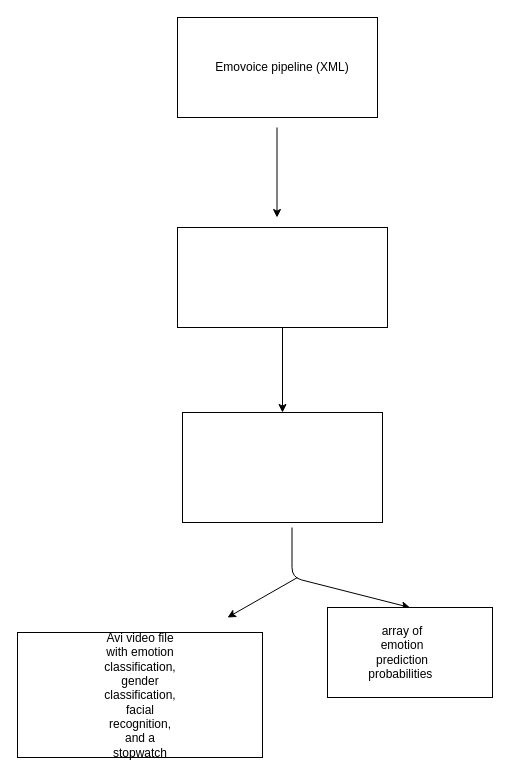
Some shapes in this 510 by 777 pixel diagram are drawn without their labels. Each missing label, with the centre of its shape:
"image_feature" python file (through Python Image Feature function): point 282,467
Video Input (from camera): point 282,277
